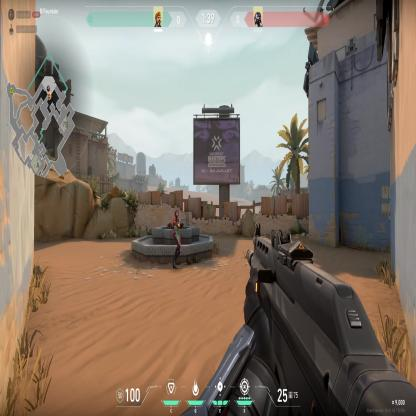enemy: (170, 208, 182, 269)
